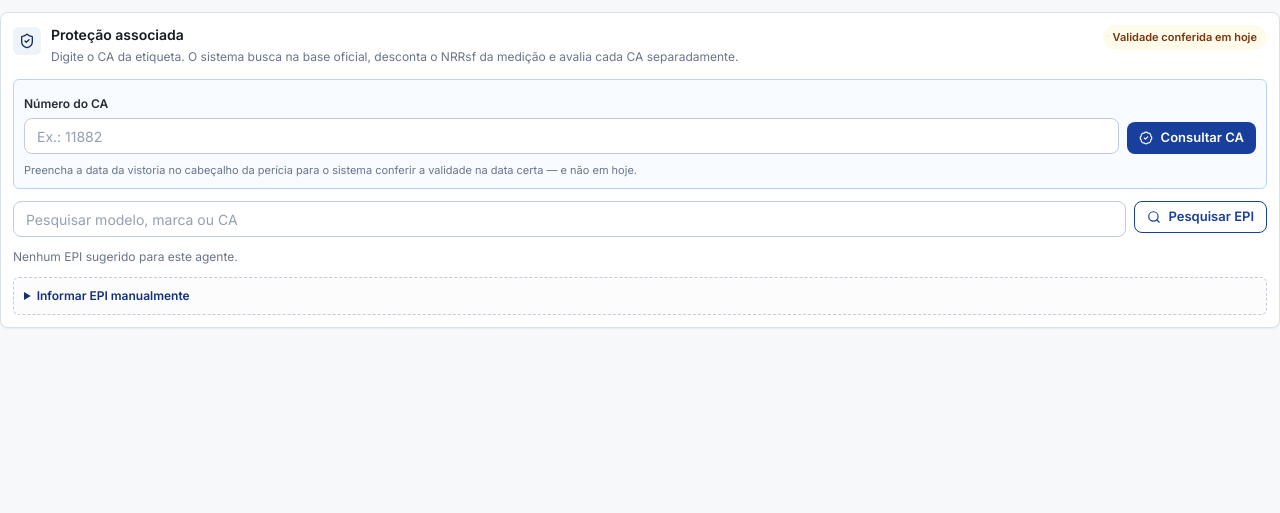
Test: EpiSelector › rejeita NRRsf manual fora do intervalo aceito
Step 1. Click the heading "Informar EPI manualmente" → (113, 296), box x1=37 y1=288 x2=190 y2=303
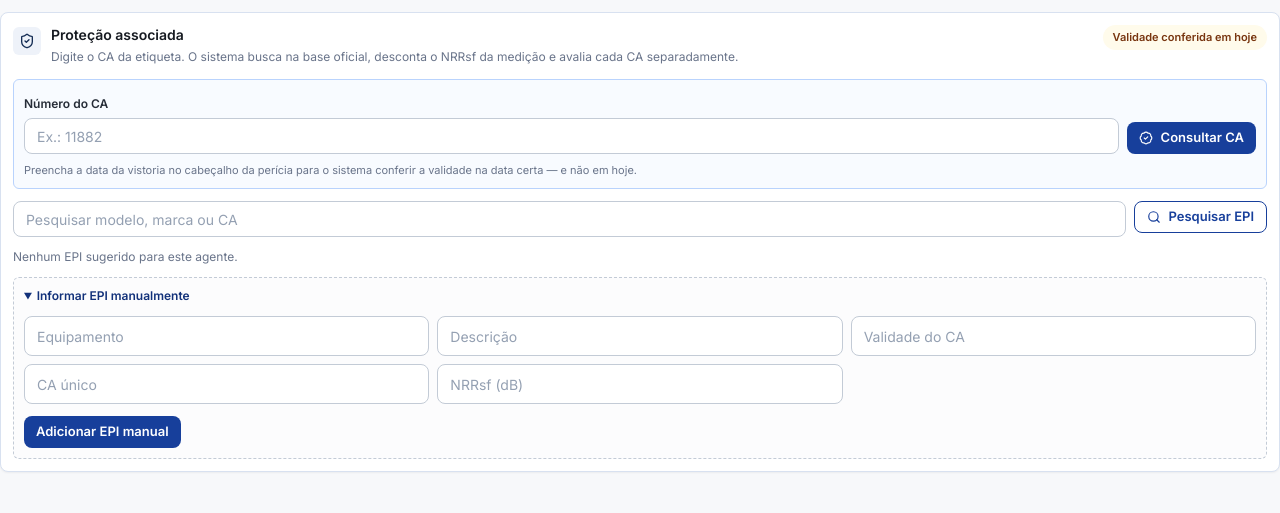
Step 2. Type "Protetor auditivo" into the field labelled "Equipamento" → (227, 336), box x1=24 y1=316 x2=429 y2=356
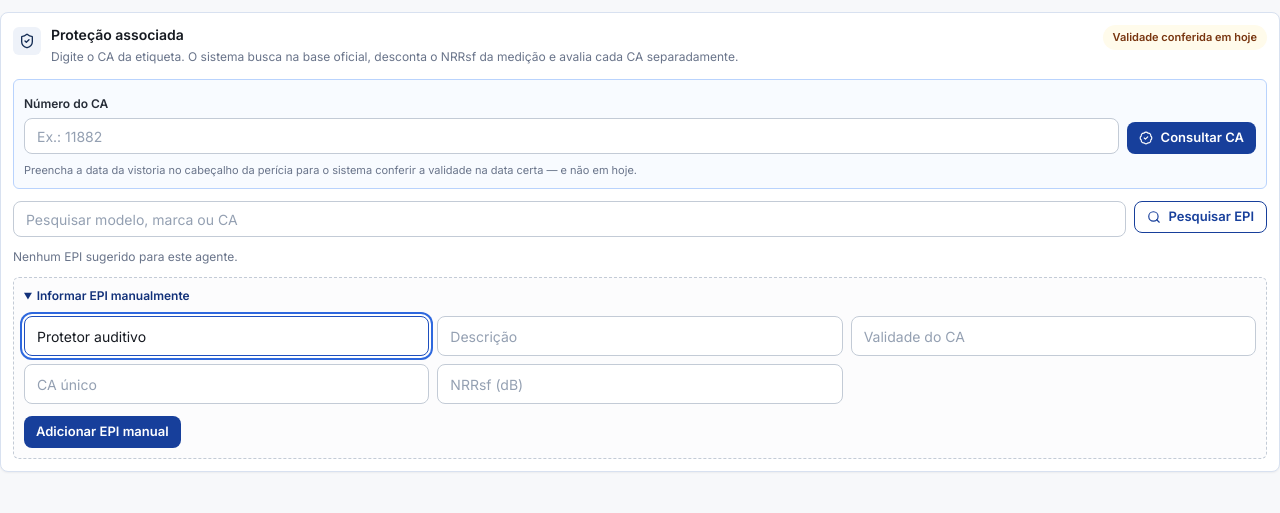
Step 3. Type "Protetor" into the field labelled "Descrição" → (640, 336), box x1=437 y1=316 x2=843 y2=356
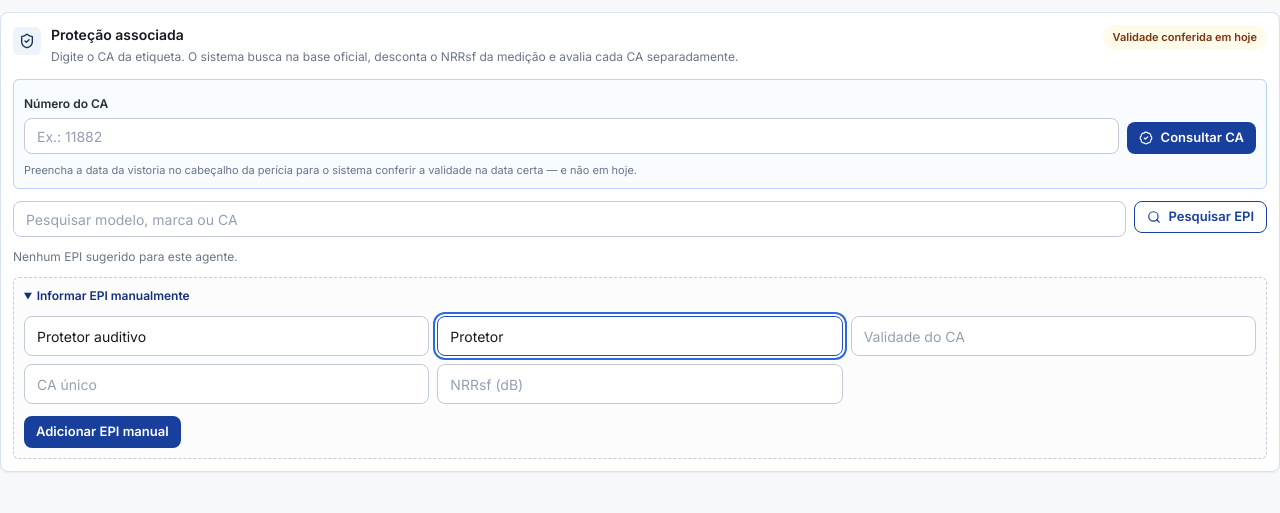
Step 4. Type "31/12/2028" into the field labelled "Validade do CA" → (1053, 336), box x1=851 y1=316 x2=1256 y2=356
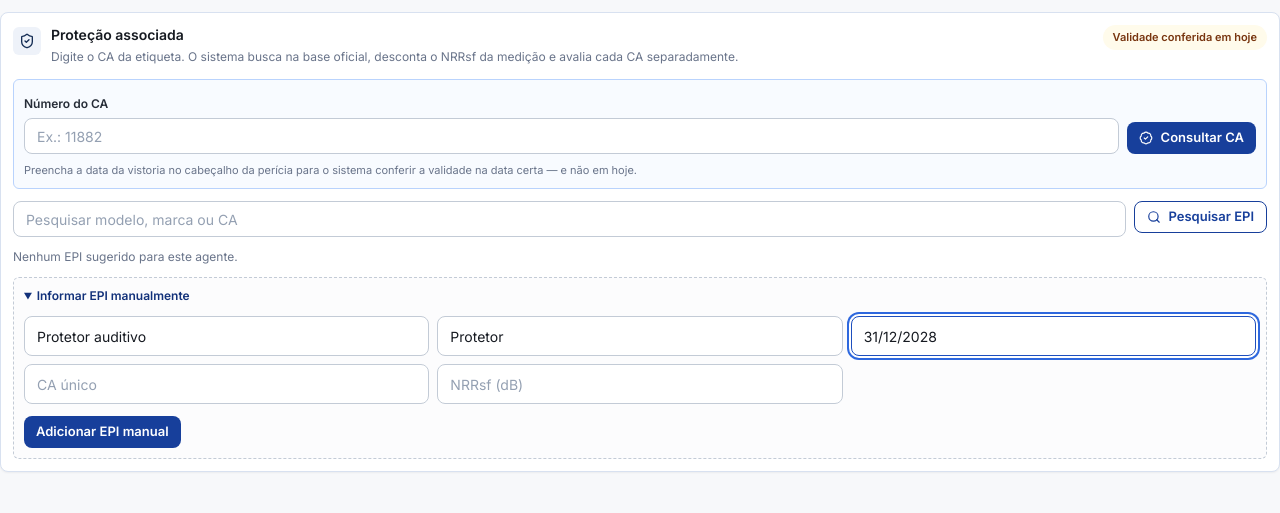
Step 5. Type "101" into the number field named "NRRsf em dB" → (640, 384), box x1=437 y1=364 x2=843 y2=404
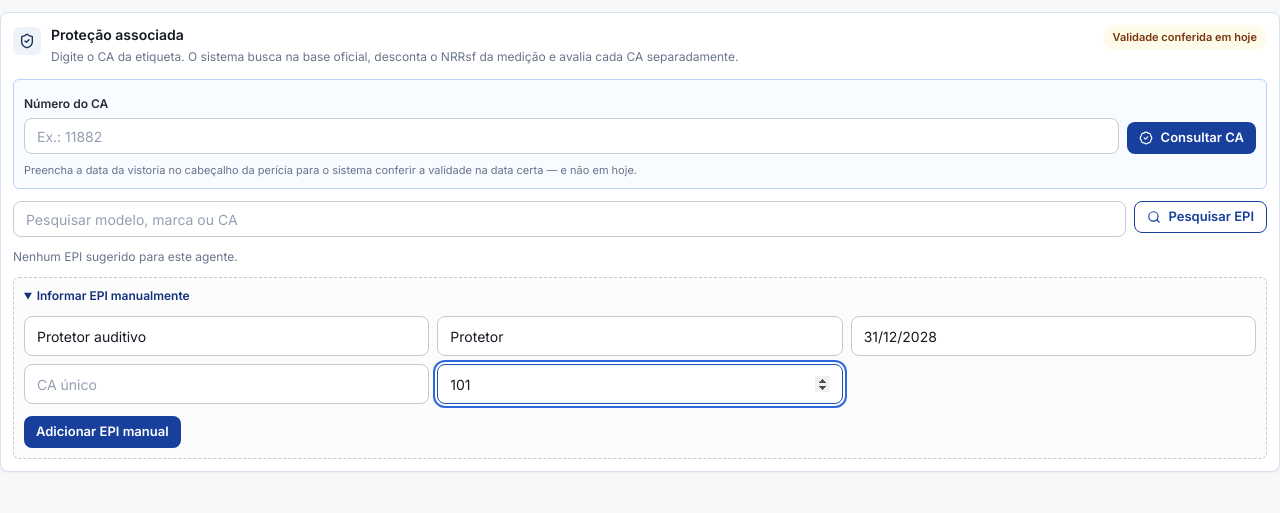
Step 6. Click the button "Adicionar EPI manual" → (102, 432), box x1=24 y1=416 x2=181 y2=448
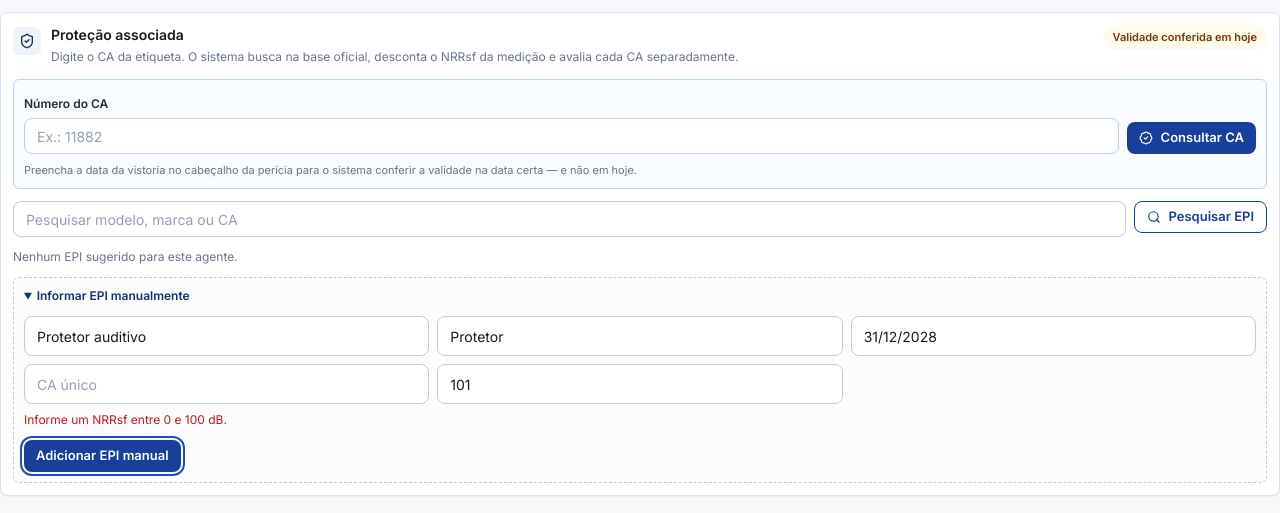
Expected: the message "Informe um NRRsf entre 0 e 100 dB." is shown, x1=24 y1=412 x2=227 y2=427
